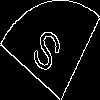S: (25, 25, 65, 84)
